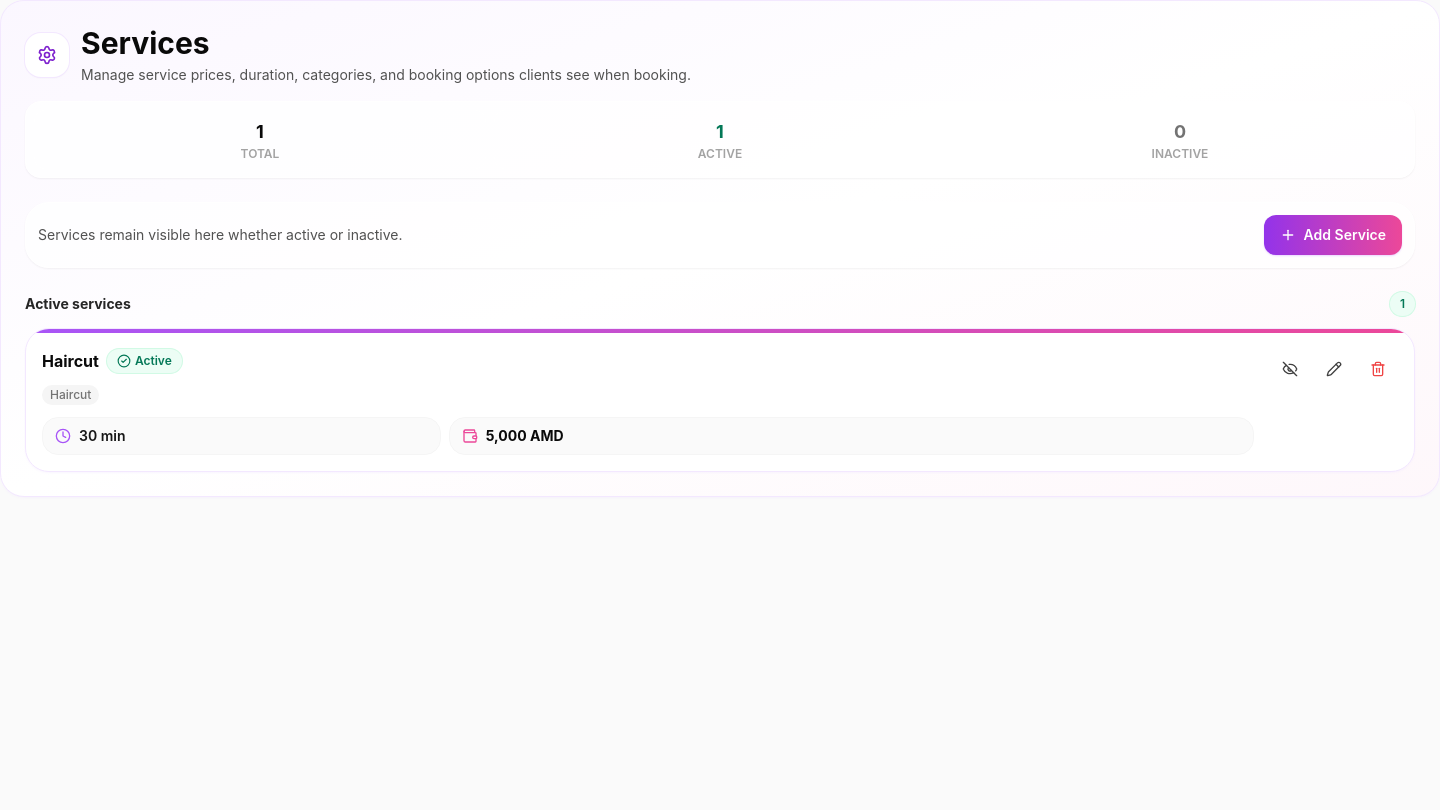
Test case: ServicesManager › contains a failed deactivation, preserves the active service, and allows a successful retry
The width and height of the screenshot is (1440, 810).
Click the button titled "Deactivate" at (1290, 369), box [1270,349,1310,389]
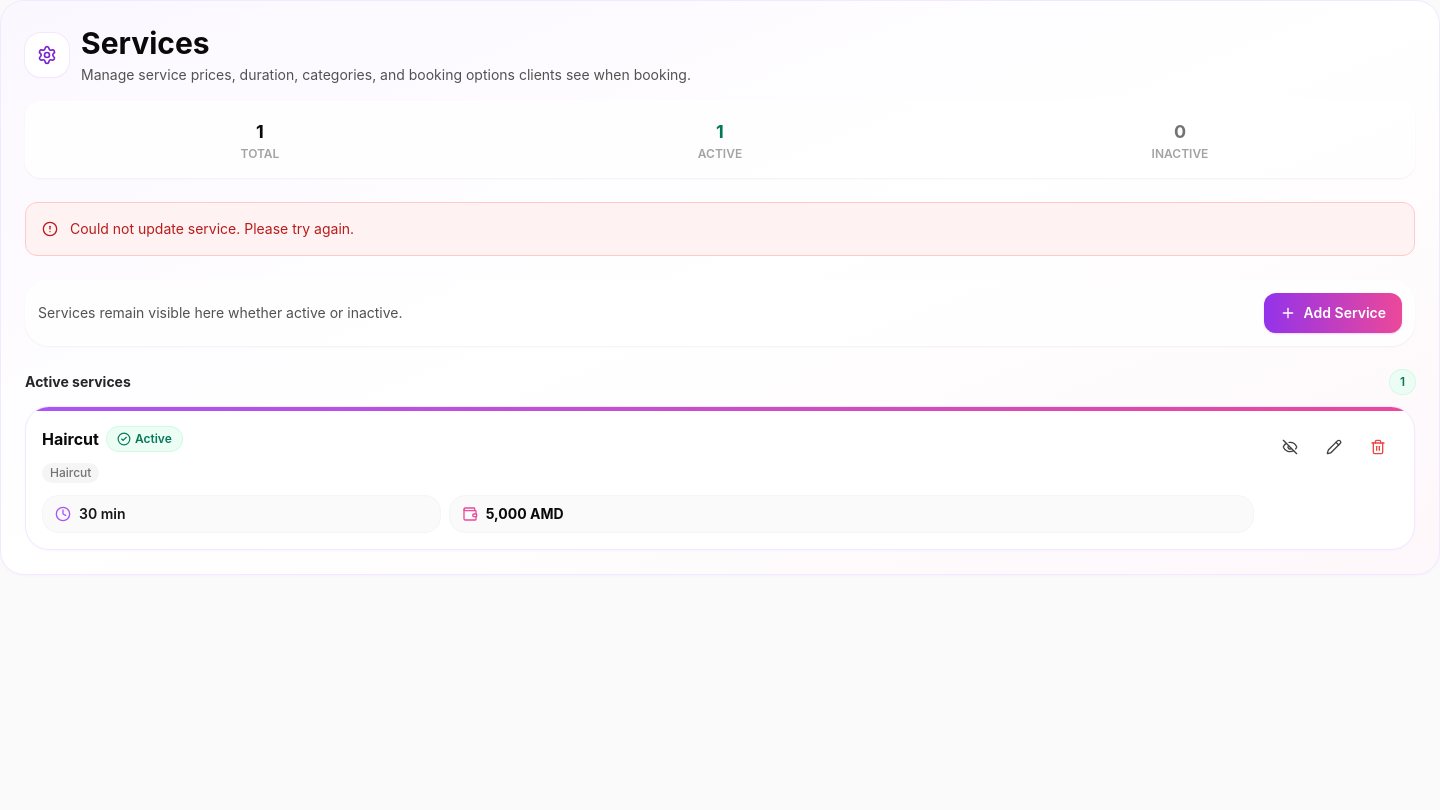
Result: the text "Could not update service. Please try again." is shown at [70,219,354,239]
Click the button titled "Deactivate" at (1290, 447), box [1270,427,1310,467]
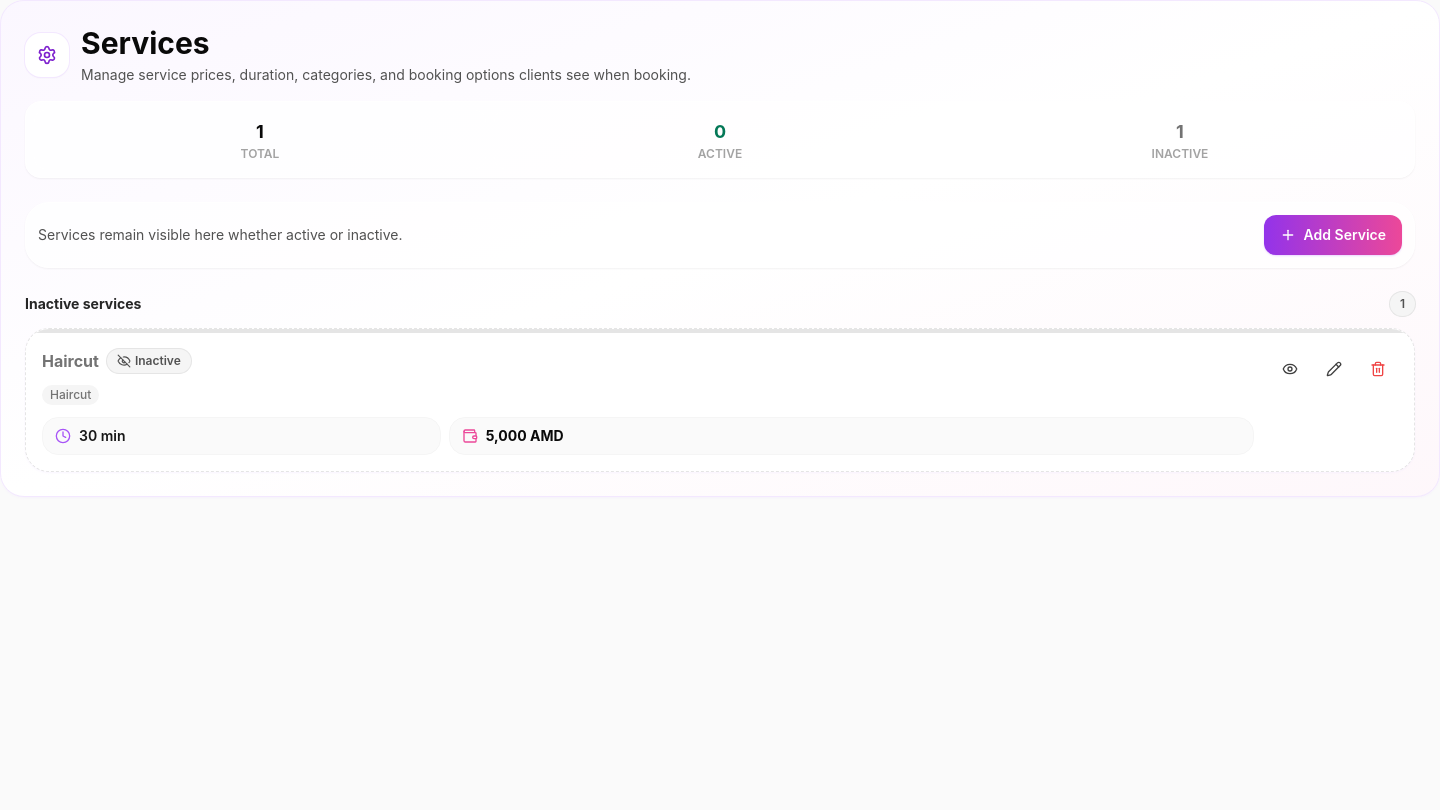
Expected: the button titled "Activate" is enabled, [1270,349,1310,389]
Result: the text "Could not update service. Please try again." is gone
